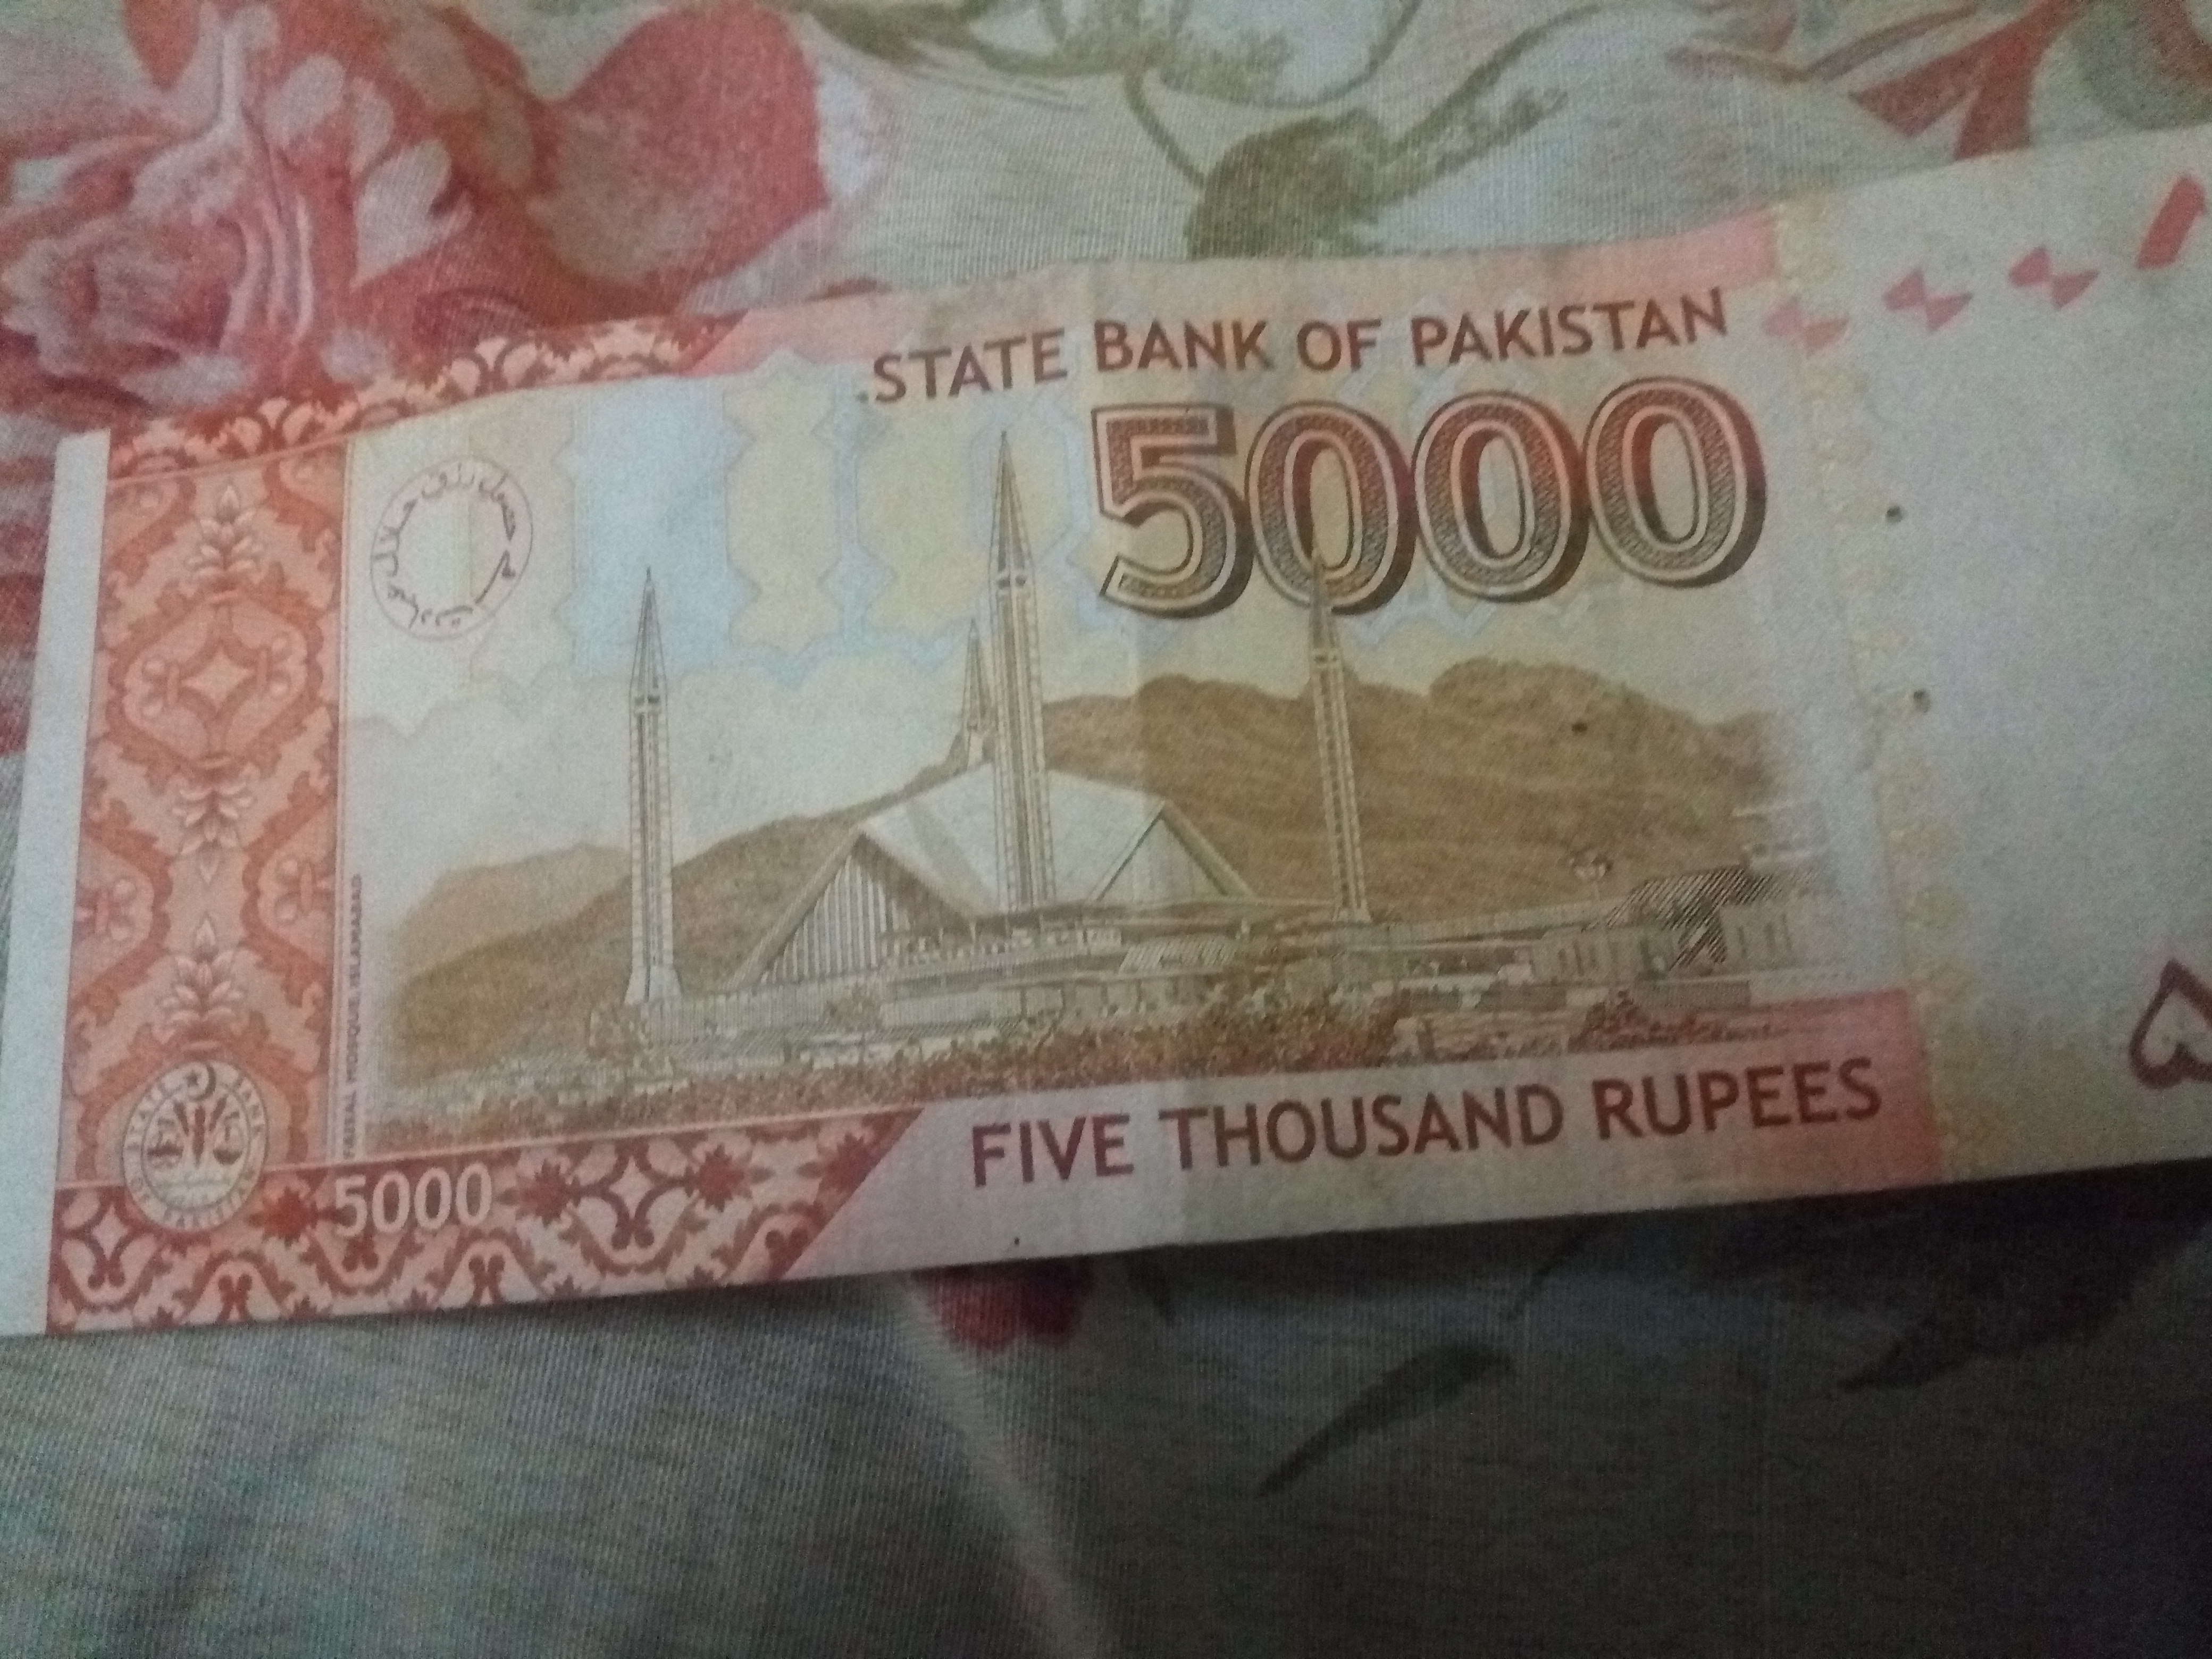5000 rupee: (37, 124, 2165, 1331)
